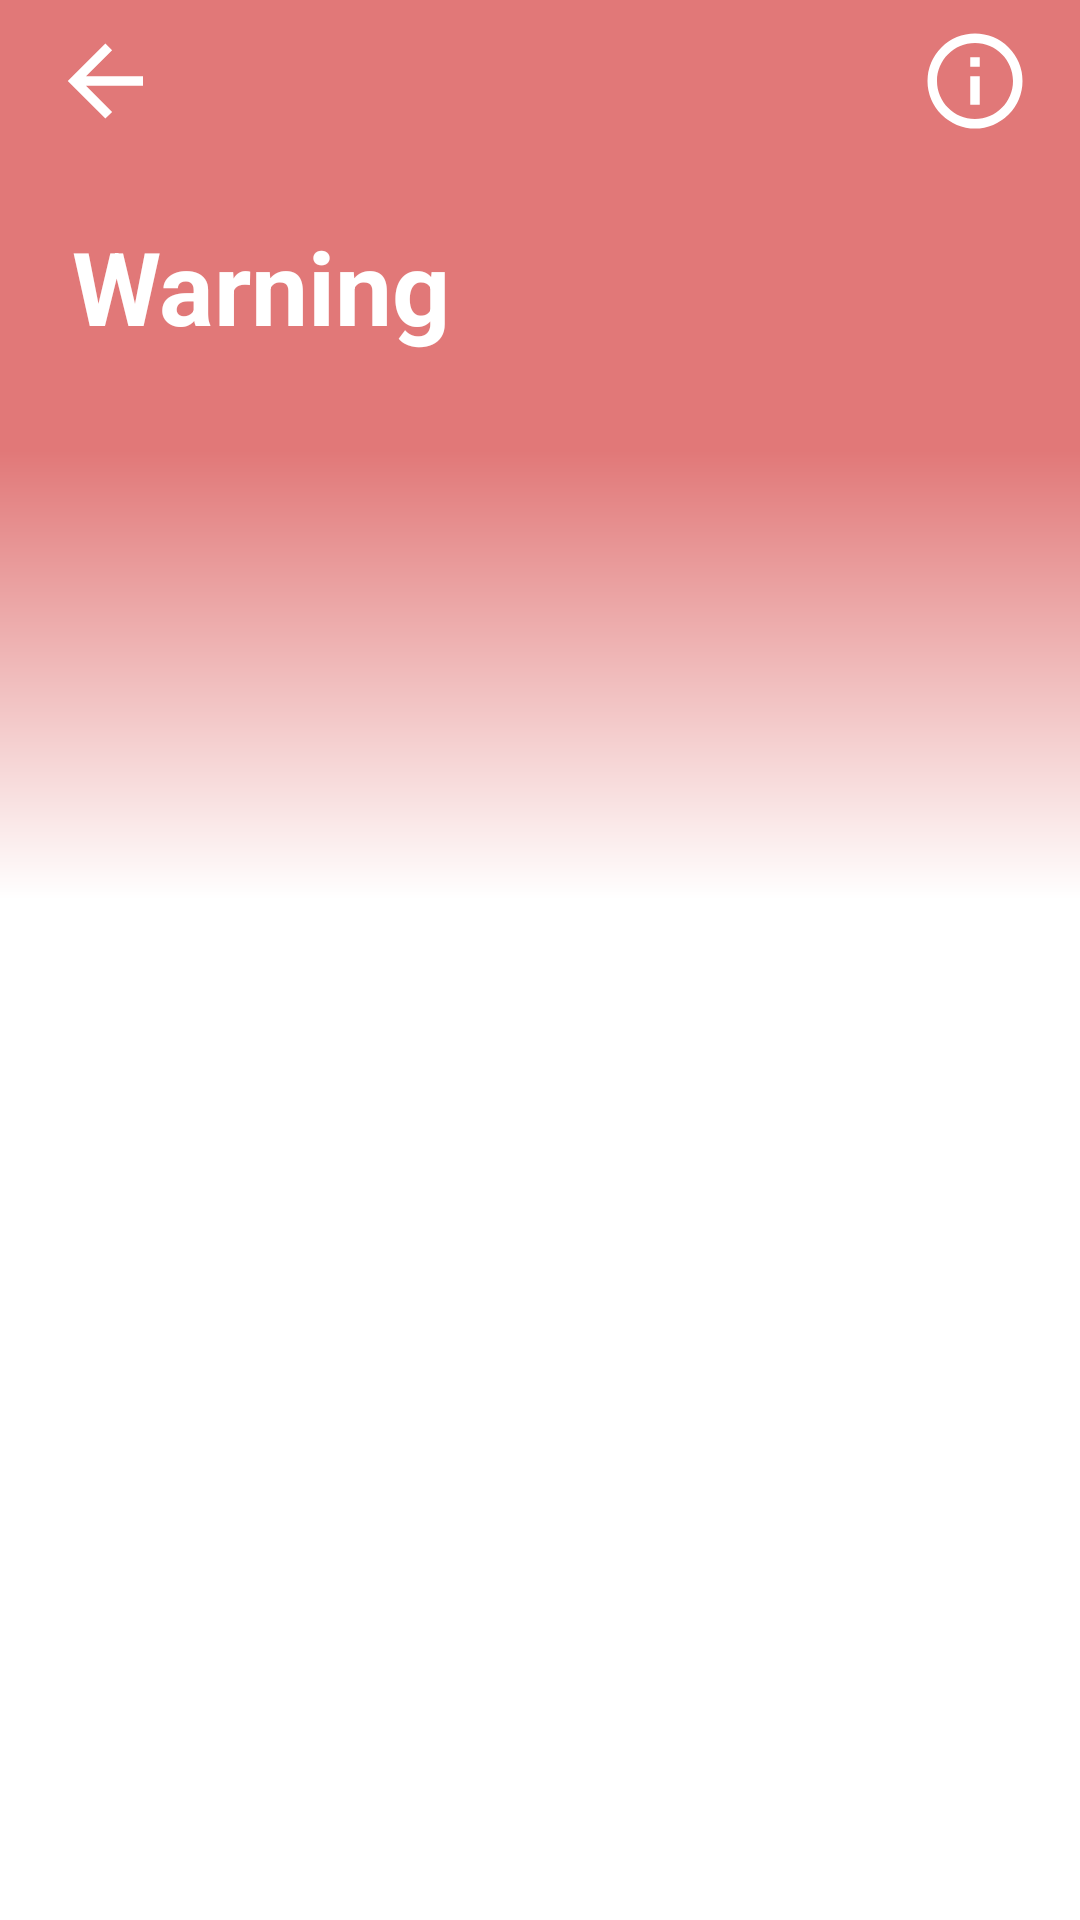

Where icons sit on this 1080x1920 app screen, as (x1, y1, x2, y2):
arrow left: (68, 43, 143, 119)
information: (927, 33, 1023, 129)
